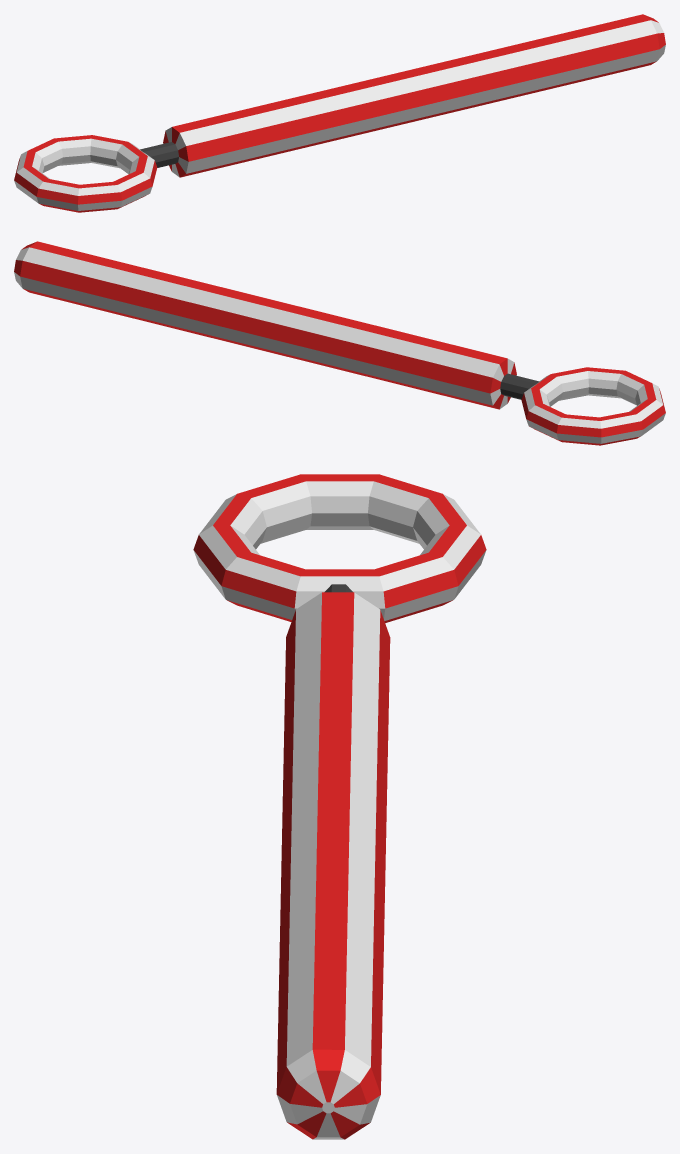
The model's file is obstaculo.fbx.
3 renders of one model, top to bottom at view 1: azimuth 30°, elevation 25°; view 2: azimuth 150°, elevation 25°; view 3: azimuth 270°, elevation 25°, orthographic. The views are drawn at different scales.
Visible parts, largest first — view 1: Obstaculo; view 2: Obstaculo; view 3: Obstaculo.
Part boxes in pixels (x1=…): Obstaculo: x1=14, y1=14, x2=665, y2=212; Obstaculo: x1=14, y1=241, x2=665, y2=445; Obstaculo: x1=193, y1=474, x2=486, y2=1139.
Size of the model in its own units: 312 by 105 by 1554.
